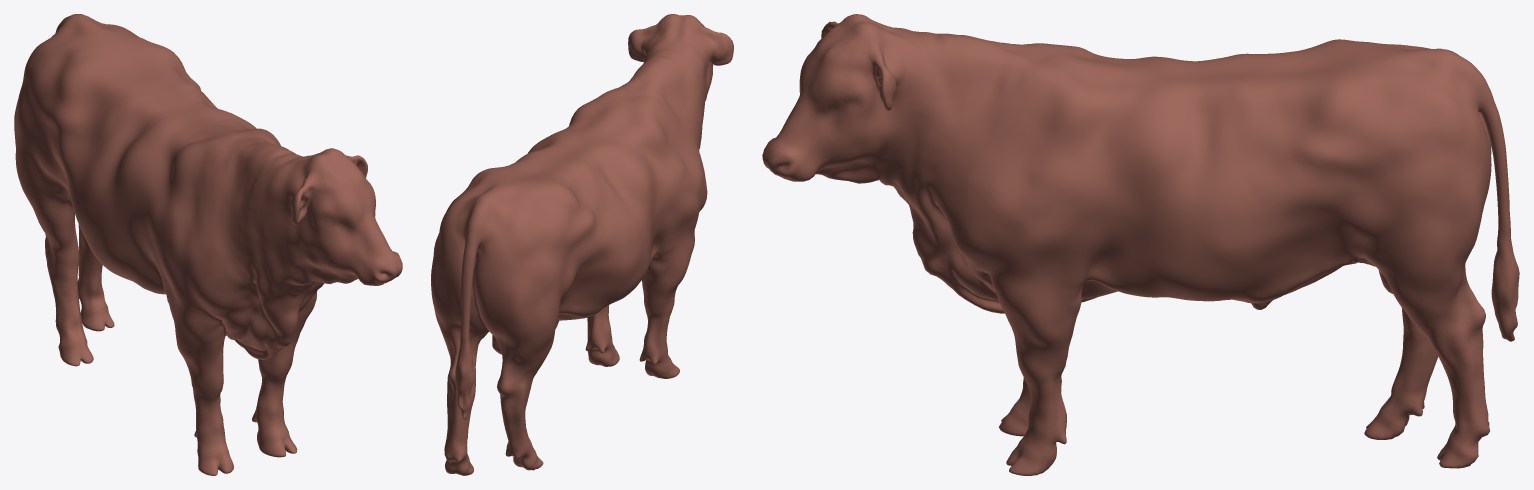
File: cow.glb
The picture shows the model from 3 angles, left to right: view 1: azimuth 30°, elevation 25°; view 2: azimuth 150°, elevation 25°; view 3: azimuth 270°, elevation 25°; orthographic projection. The views are drawn at different scales.
Parts seen in each view (by area): view 1: tripo_node_863588ca-ffae-4b90-b8c6-dfcb70195ea9; view 2: tripo_node_863588ca-ffae-4b90-b8c6-dfcb70195ea9; view 3: tripo_node_863588ca-ffae-4b90-b8c6-dfcb70195ea9.
Part boxes in pixels (left/top/right/bottom): tripo_node_863588ca-ffae-4b90-b8c6-dfcb70195ea9: left=14, top=14, right=402, bottom=475; tripo_node_863588ca-ffae-4b90-b8c6-dfcb70195ea9: left=431, top=14, right=733, bottom=475; tripo_node_863588ca-ffae-4b90-b8c6-dfcb70195ea9: left=762, top=14, right=1519, bottom=475.
Bounding box in the file's own units: 0.3056 × 0.6239 × 0.9805.
